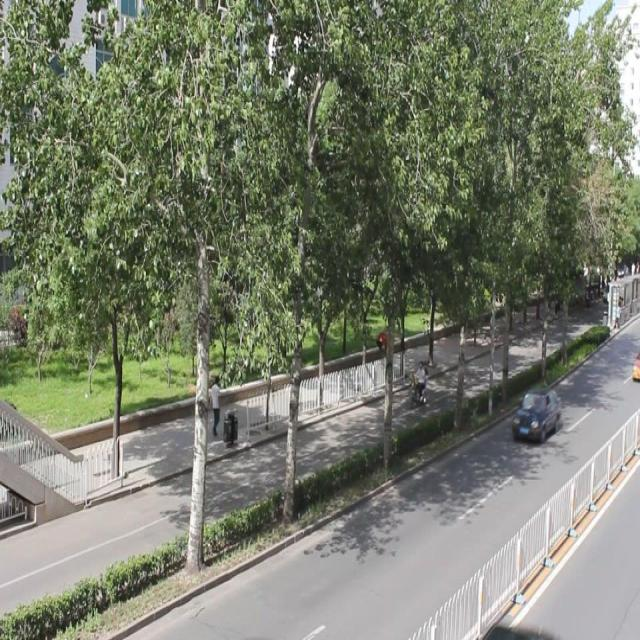car: (512, 386, 559, 439)
